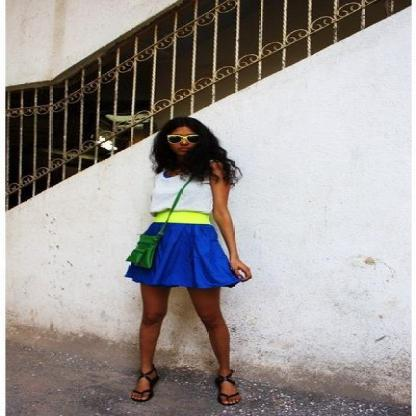bag: (126, 232, 161, 268)
shirt: (151, 172, 212, 207)
shoe: (131, 379, 236, 405)
skirt: (125, 222, 236, 288)
